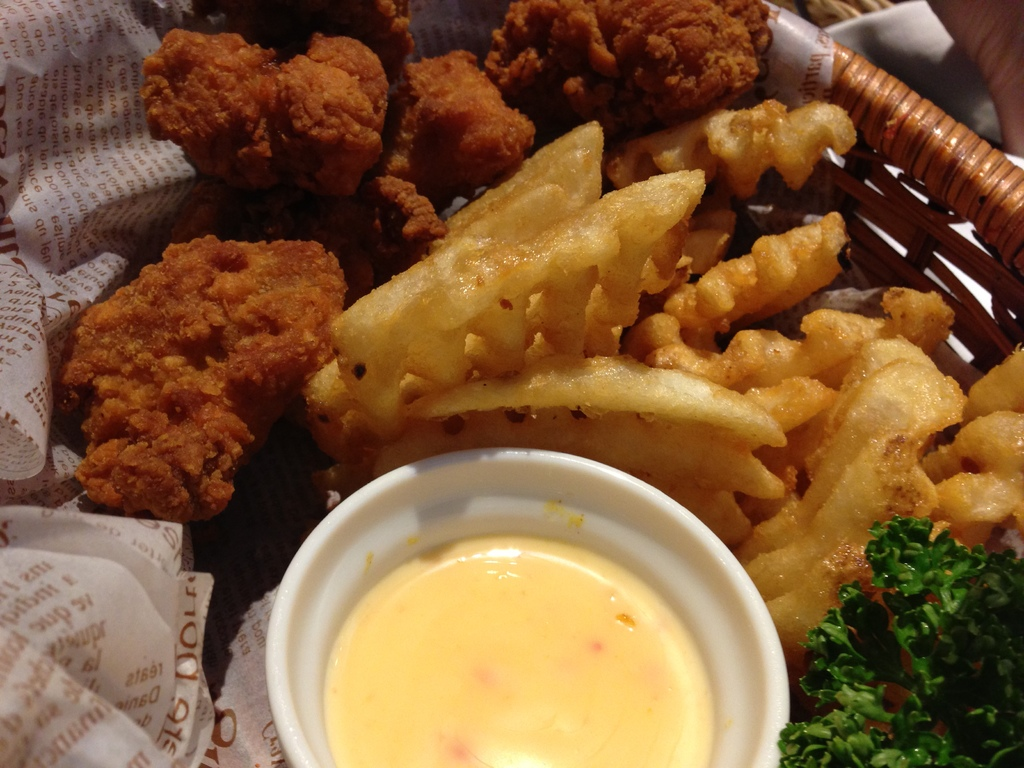French fries: (303, 81, 997, 619)
